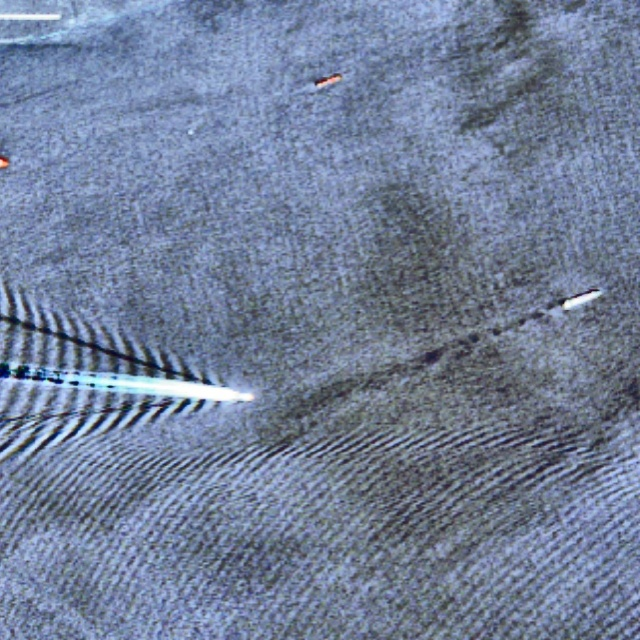wake: (13, 306, 265, 466)
